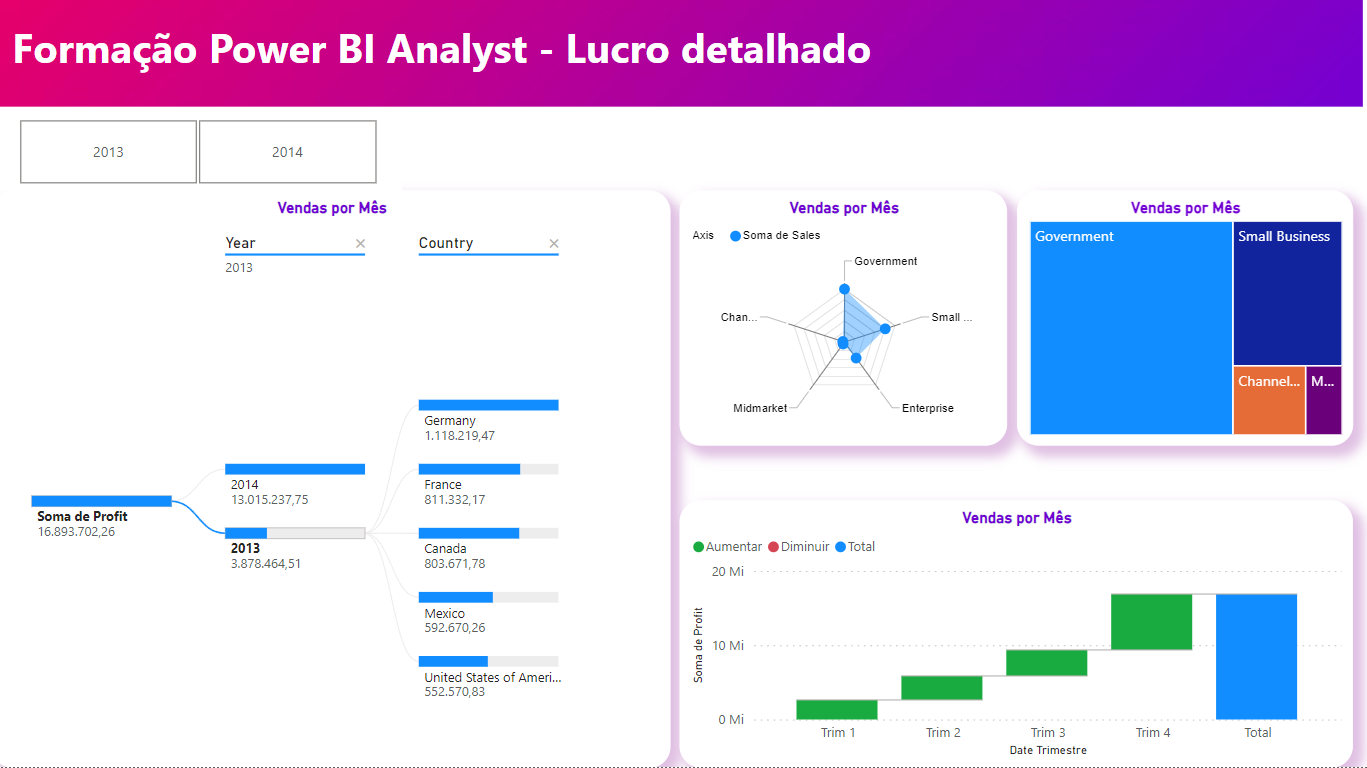

The page's visual inventory and layout, read from the dashboard file:
{"tool":"powerbi","page":{"name":"Duplicata de Página 1","canvas":[1280,720],"ordinal":1},"visuals":[{"type":"group","id":"g1","title":"Titulo PrincipaL","box":[0,0,1280.3,109.8],"z":0},{"type":"group","id":"g2","title":"Grupo 2","box":[0,0,1280.3,109.8],"z":0,"group":"g1"},{"type":"image","box":[0,0,1280.2,109.5],"z":0,"group":"g2"},{"type":"textbox","box":[13.7,19.3,1037.8,63.8],"z":1000,"group":"g2"},{"type":"decompositionTreeVisual","title":"Vendas por Mês","fields":{"Analyze":["Sum(financials.Profit)"],"ExplainBy":["financials.Year","financials.Country"]},"box":[0,182.5,631.2,537.5],"z":1000},{"type":"slicer","fields":{"Values":["financials.Date.Variation.Hierarquia de datas.Ano"]},"box":[0,110,381.2,72.5],"z":3000},{"type":"pieChart","title":"Vendas por Mês","fields":{"Category":["financials.Segment"],"Y":["Sum(financials.Profit)"]},"box":[640,182.5,305,237.5],"z":3001},{"type":"treemap","title":"Vendas por Mês","fields":{"Values":["Sum(financials.Profit)"],"Group":["financials.Segment"]},"box":[953.8,182.5,312.5,237.5],"z":3002},{"type":"waterfallChart","title":"Vendas por Mês","fields":{"Category":["financials.Date.Variation.Hierarquia de datas.Trimestre"],"Y":["Sum(financials.Profit)"]},"box":[640,471.2,626.2,248.8],"z":3003}]}

Visuals, with their boxes in screenshot pixels (x1, y1, x2, y2), scaled from the page's 1280x720 canvas onto the 1367x768 screenshot:
"Titulo PrincipaL" group: 0/0/1366/117
"Grupo 2" group: 0/0/1366/117
image: 0/0/1366/117
textbox: 15/21/1123/89
"Vendas por Mês" decompositionTreeVisual: 0/195/674/767
slicer - financials.Date.Variation.Hierarquia de datas.Ano: 0/117/407/195
"Vendas por Mês" pieChart: 684/195/1009/448
"Vendas por Mês" treemap: 1019/195/1352/448
"Vendas por Mês" waterfallChart: 684/503/1352/767
